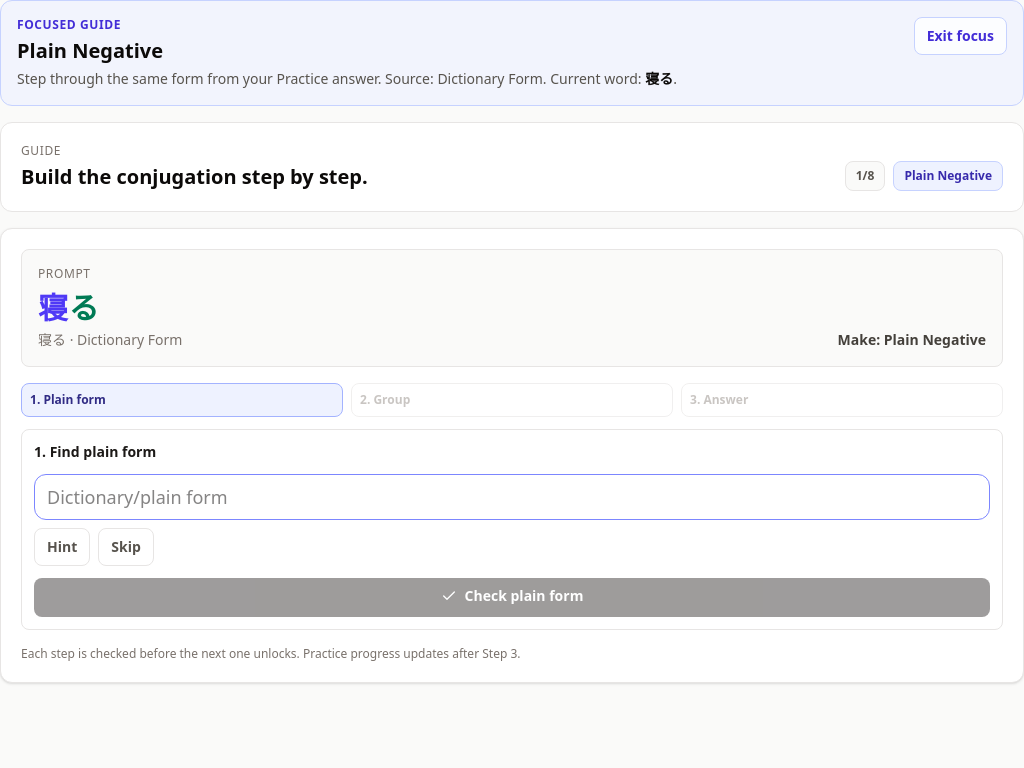
Guide gated walkthrough › makes Skip reveal the answer and require an active correction
This screenshot has width=1024, height=768.
Expected: the field labelled "plain form" is shown, [34,474,990,520]
Click the button with aria-label "Skip plain form step" at (126, 547), box [98,528,154,566]
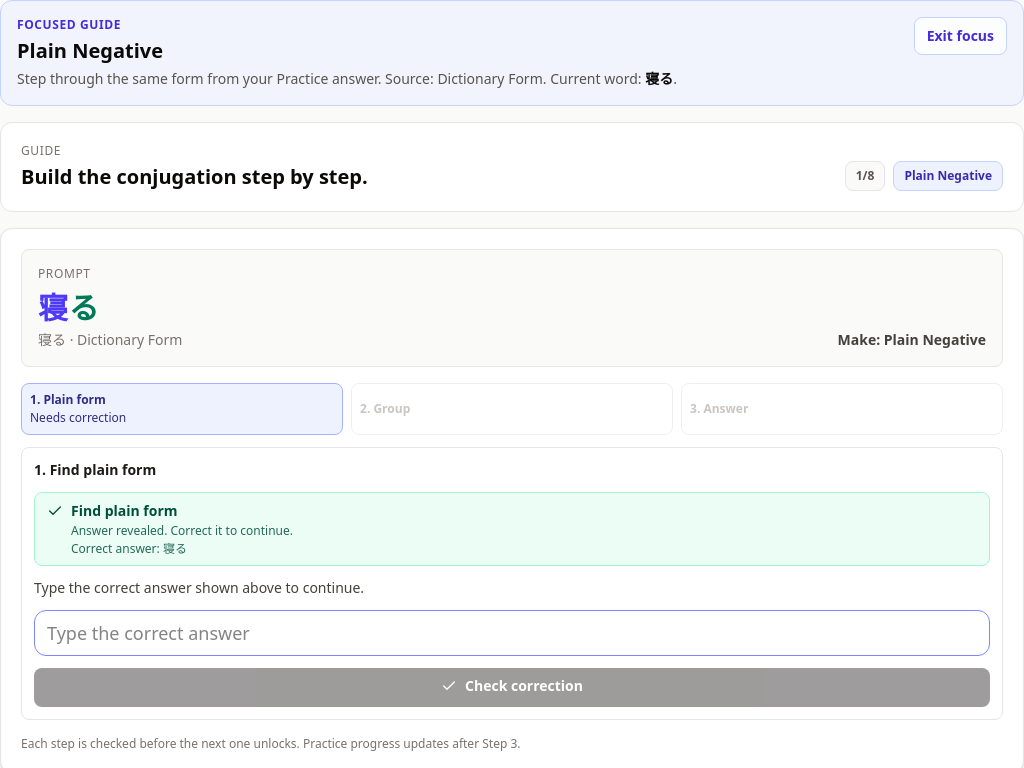
Expected: the button "2. Group" is disabled, [351,383,673,435]
Expected: the text "Answer revealed. Correct it to continue." is shown, [71,523,293,539]
Type "neru" into the field named "Plain form" at (512, 633), box [34,610,990,656]
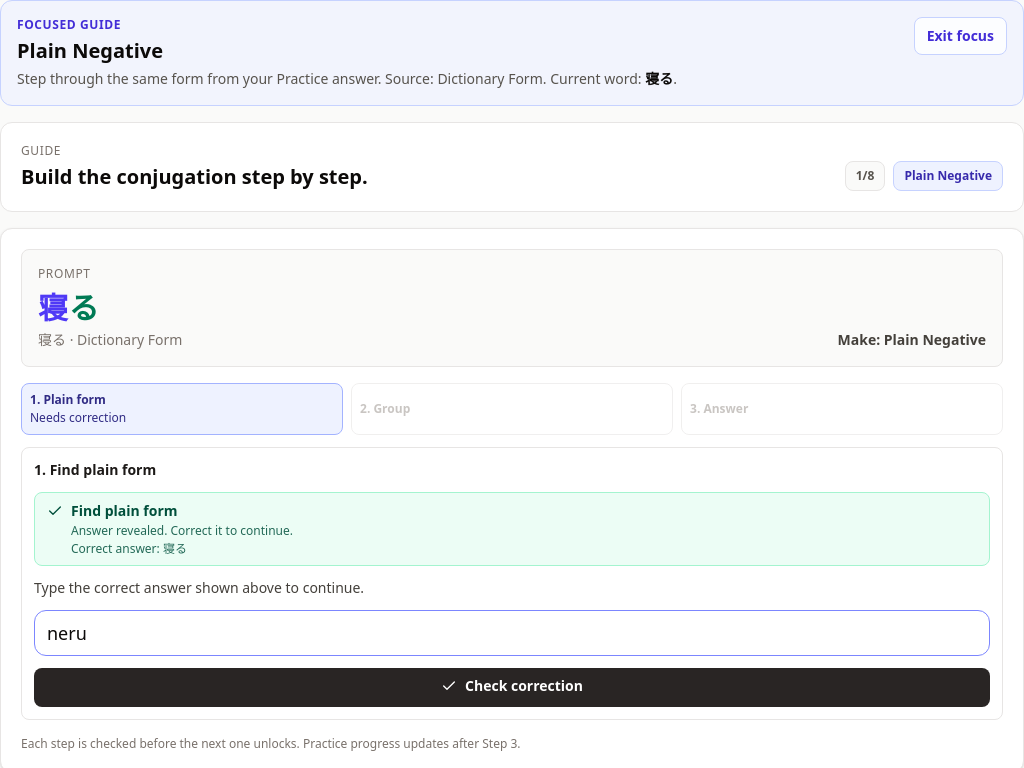
Click the button "Check correction" at (512, 688), box [34,668,990,707]
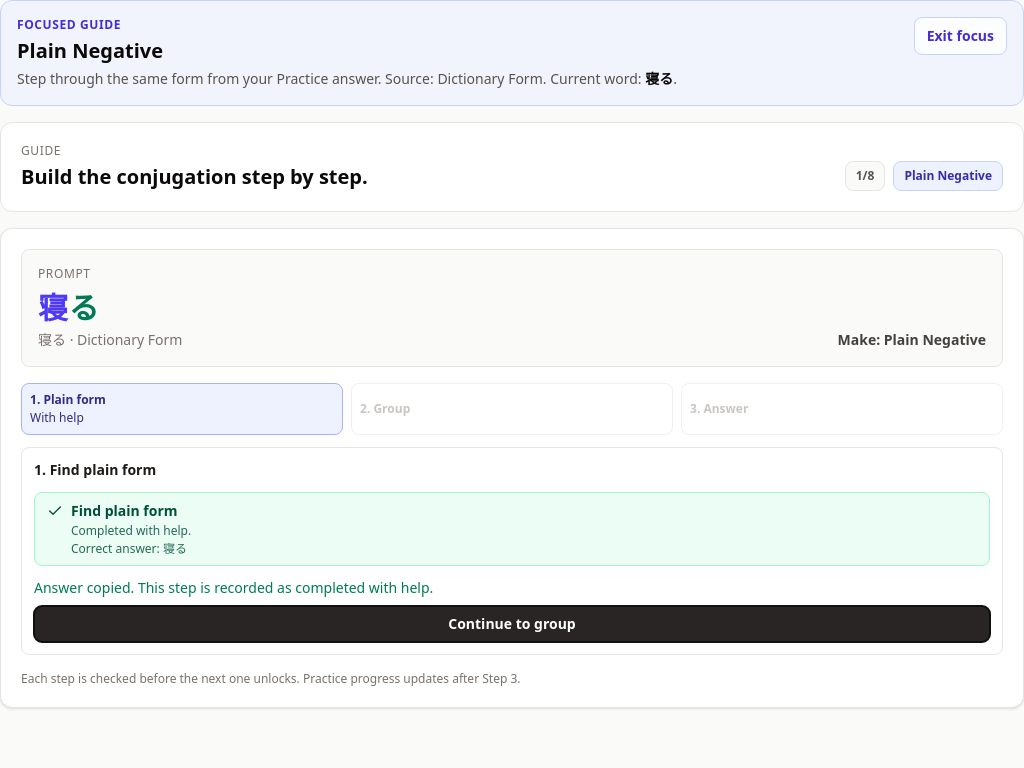
Expected: the text "Answer copied. This step is recorded as completed with help." is shown, [34,578,433,597]
Expected: the text "Completed with help." is shown, [71,523,191,539]
